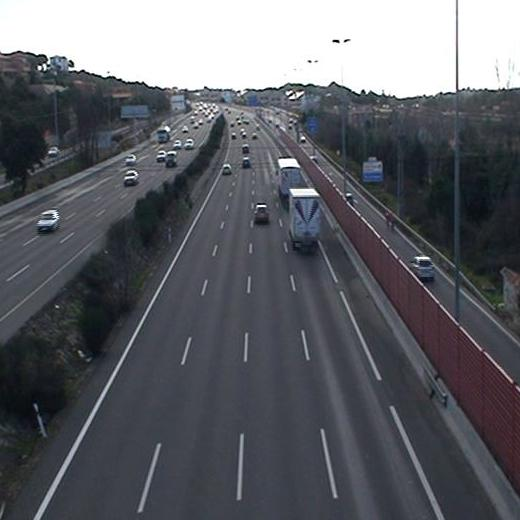car: (251, 200, 273, 227), (219, 161, 234, 178)
truck: (286, 187, 326, 256), (273, 155, 303, 203)
